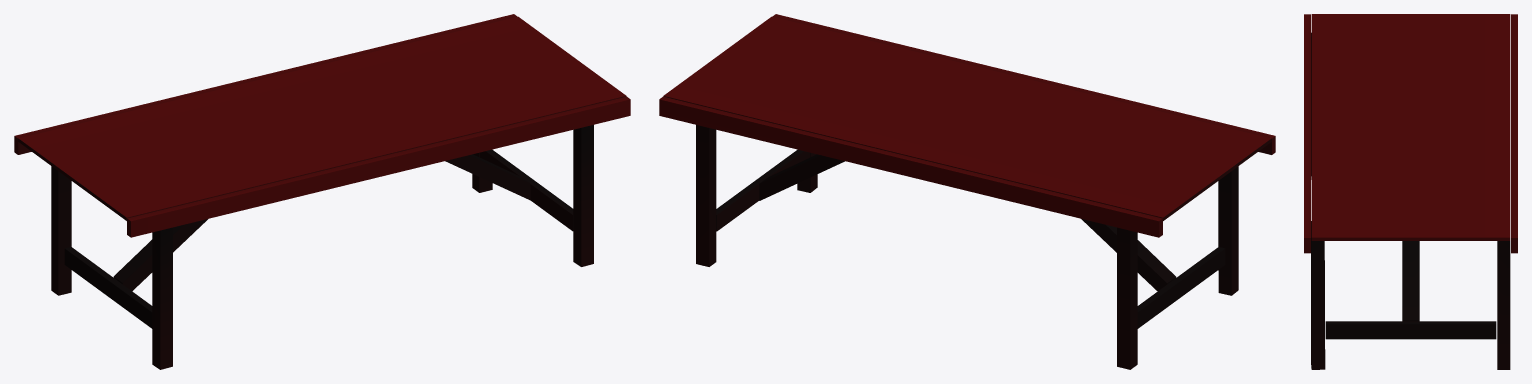
The model's file is WorkTable.glb.
3 views of the same model, side by side, from view 1: azimuth 30°, elevation 25°; view 2: azimuth 150°, elevation 25°; view 3: azimuth 270°, elevation 25° (orthographic). The views are drawn at different scales.
Visible parts, largest first — view 1: WorkTable; view 2: WorkTable; view 3: WorkTable.
Part boxes in pixels (<box>): WorkTable: <box>14,14,630,369</box>; WorkTable: <box>659,14,1275,369</box>; WorkTable: <box>1304,14,1517,369</box>.
Size of the model in its own units: 16.74 by 5.13 by 6.77.
